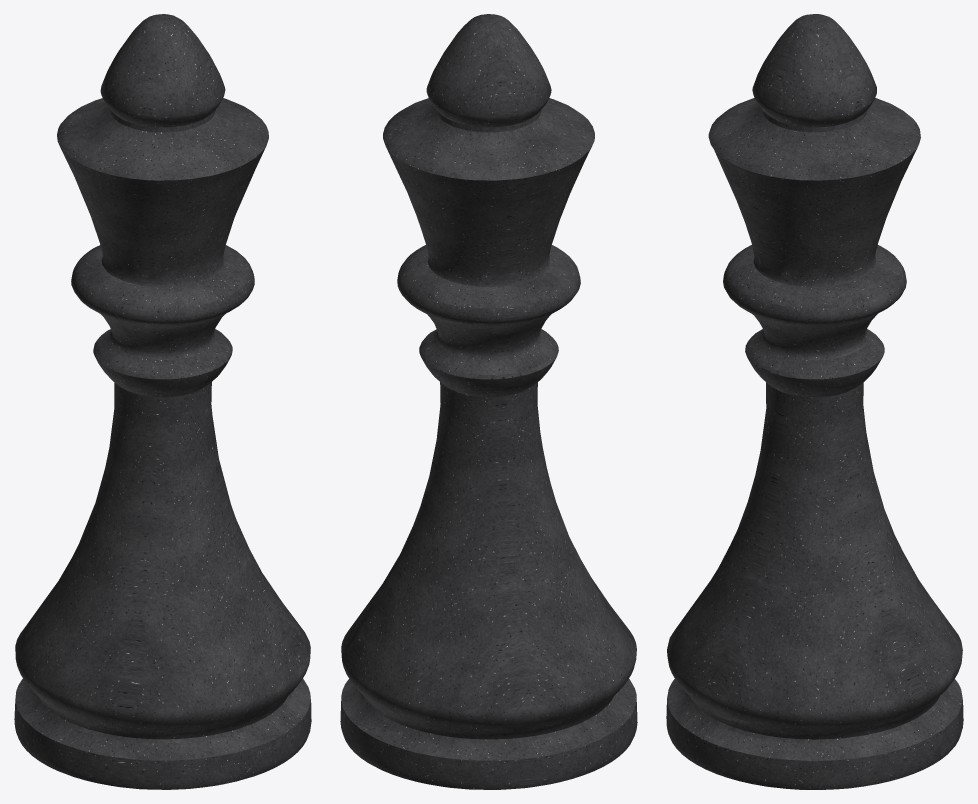
The model's file is king-black.glb.
3 renders of one model, left to right at view 1: azimuth 30°, elevation 25°; view 2: azimuth 150°, elevation 25°; view 3: azimuth 270°, elevation 25°, orthographic.
Visible parts, largest first — view 1: kral_cerna; view 2: kral_cerna; view 3: kral_cerna.
Part boxes in pixels (x1,y1,x2,y2): kral_cerna: [14, 14, 311, 789]; kral_cerna: [340, 14, 637, 789]; kral_cerna: [666, 14, 963, 789].
Bounding box in the file's own units: 0.6172 × 1.65 × 0.617.
1 material, 1 textured.
